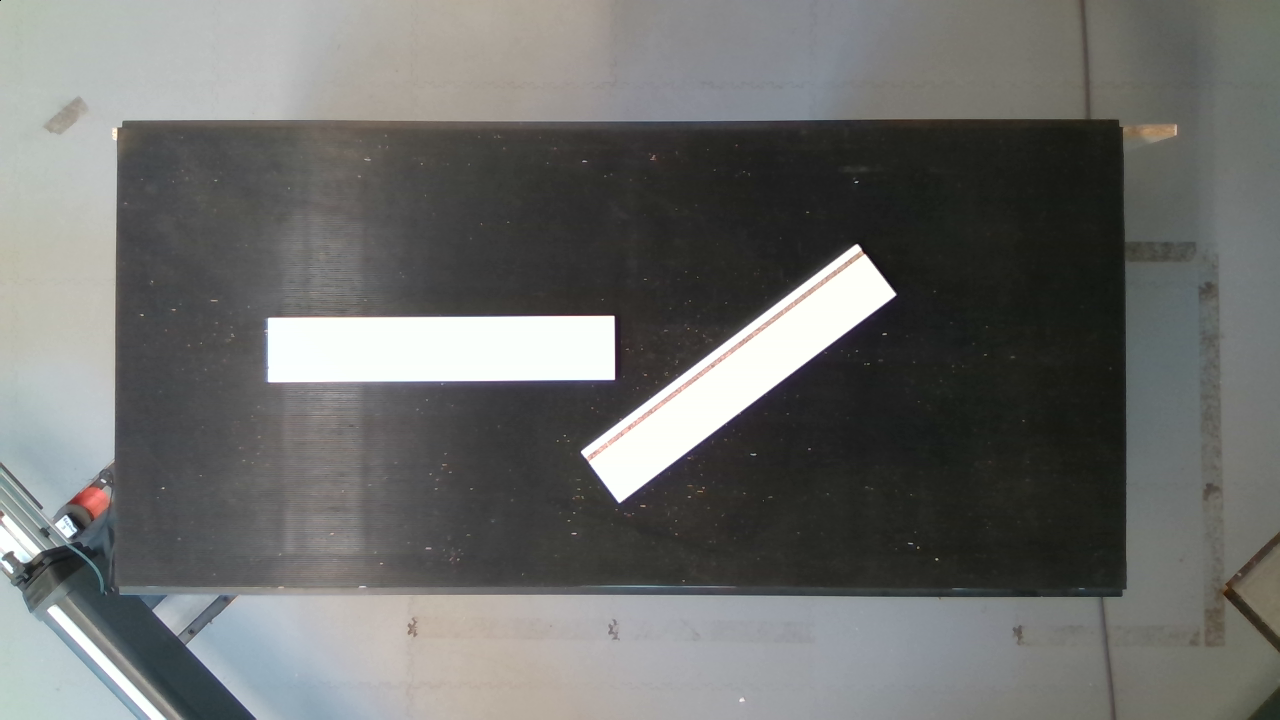part1: (578, 244, 907, 516), (252, 306, 632, 389)
